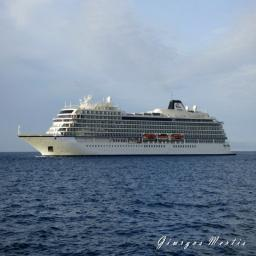cruises: (14, 97, 239, 160)
